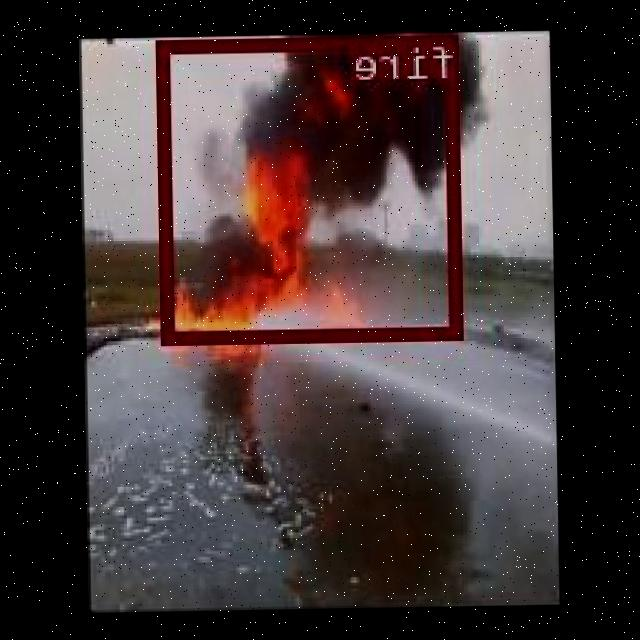fire: (158, 32, 464, 342)
